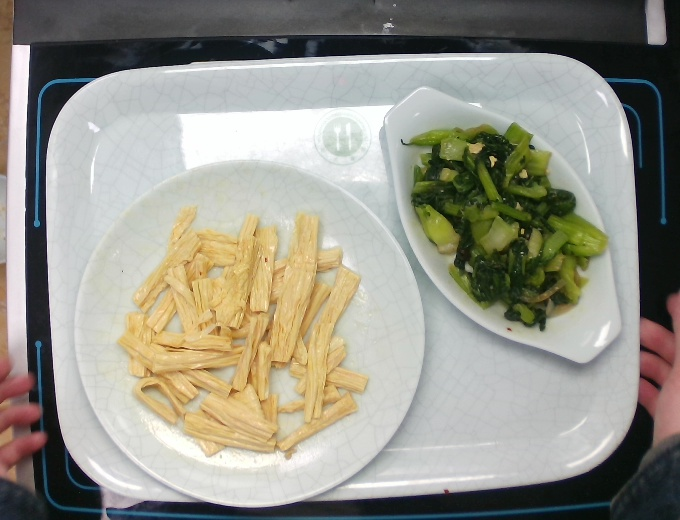JYsf-Da_Yuan_Pan: (68, 156, 429, 512)
JYsf-Yu_Pan: (379, 79, 628, 367)
